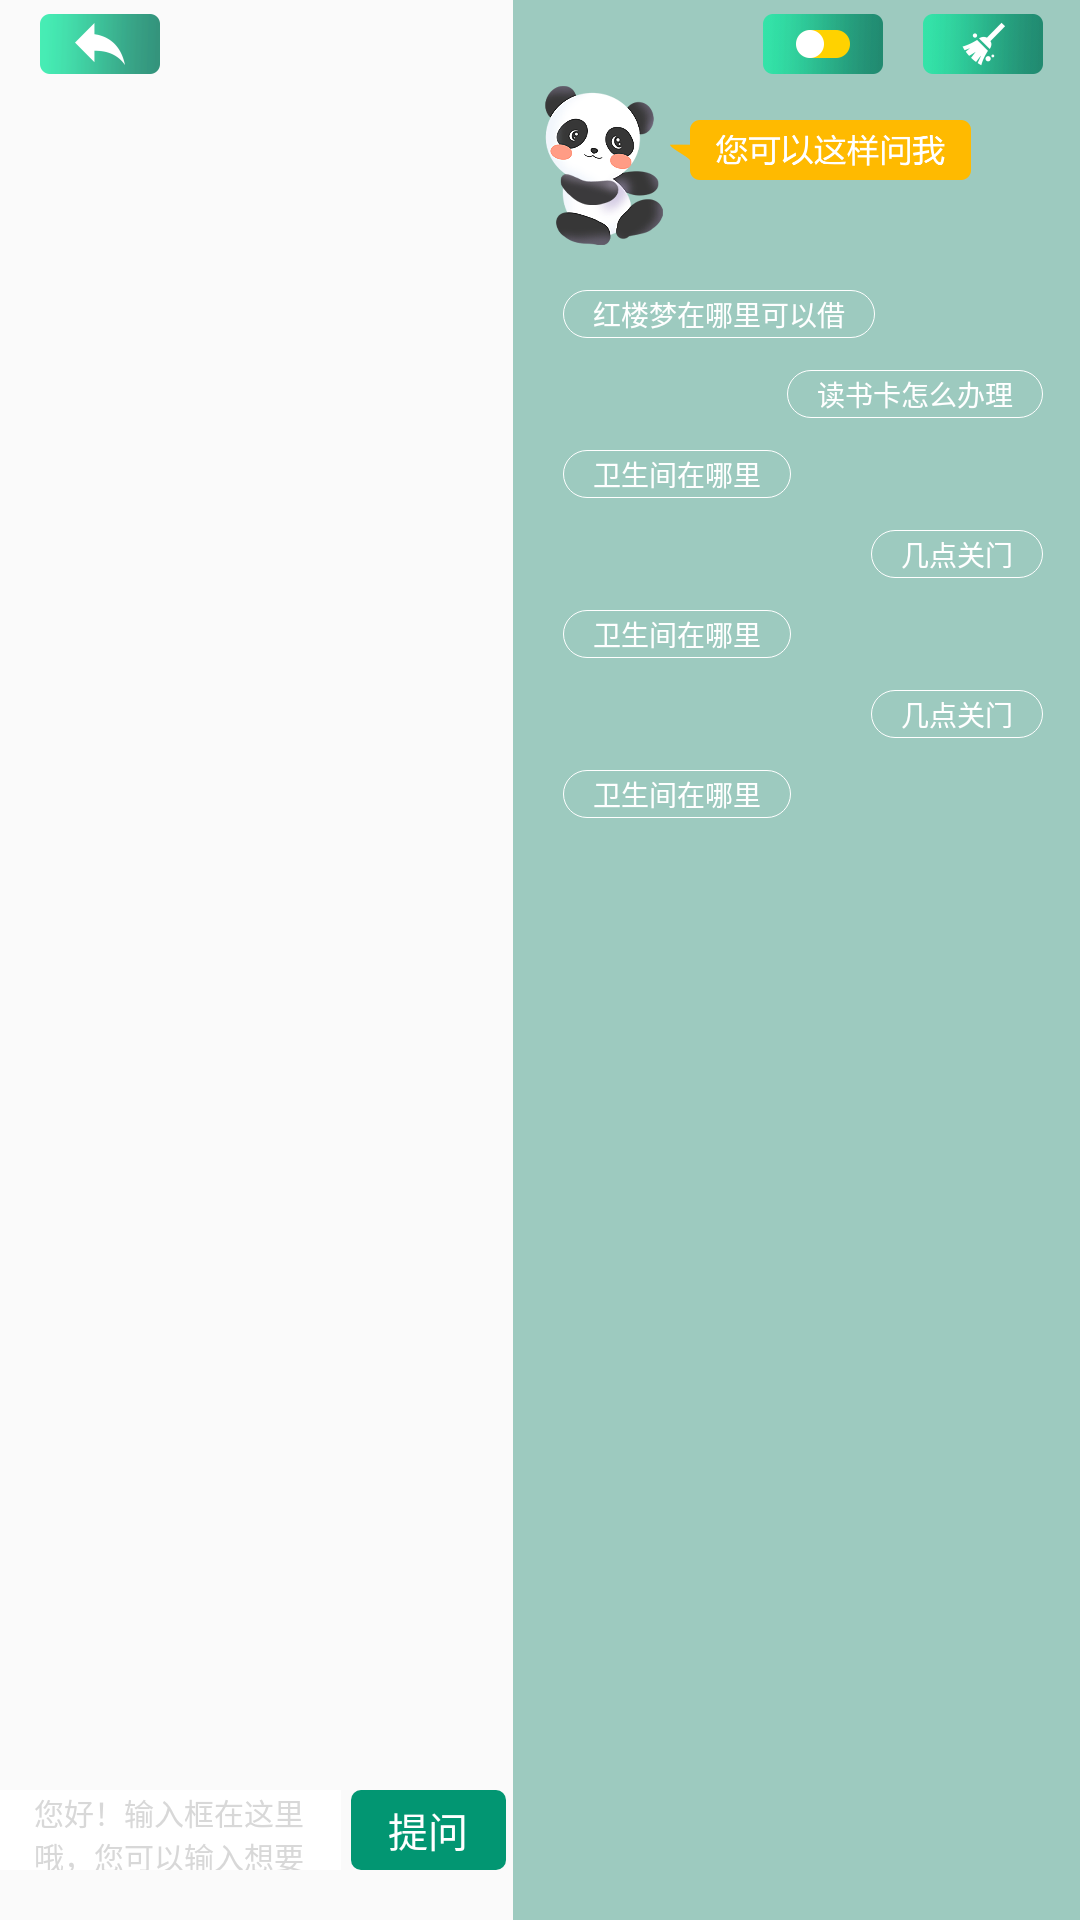

Icon click points for this 1080 x 1920 phone screenshot, format [x,y]:
back: [100,44]
clear: [983,44]
panda: [604,165]
switchicon open: [823,44]
